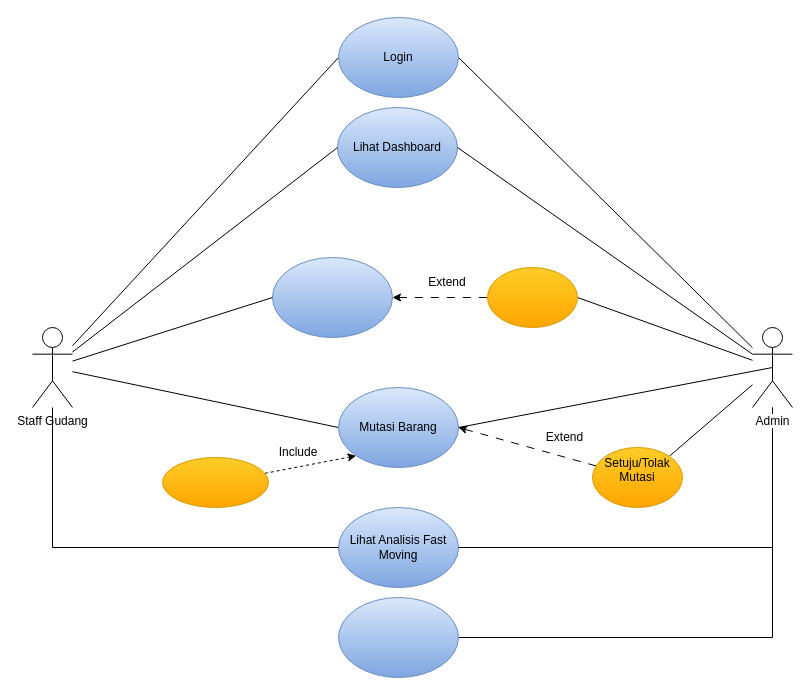
This 810x695 diagram has some shape labels left out. Each missing label, with the centre of its shape:
Data Barang & Stok: the point at 332,297
Manajemen User: the point at 398,637
Tambah, Ubah & Hapus Barang: the point at 532,297
Validasi Stok Asal: the point at 215,482
